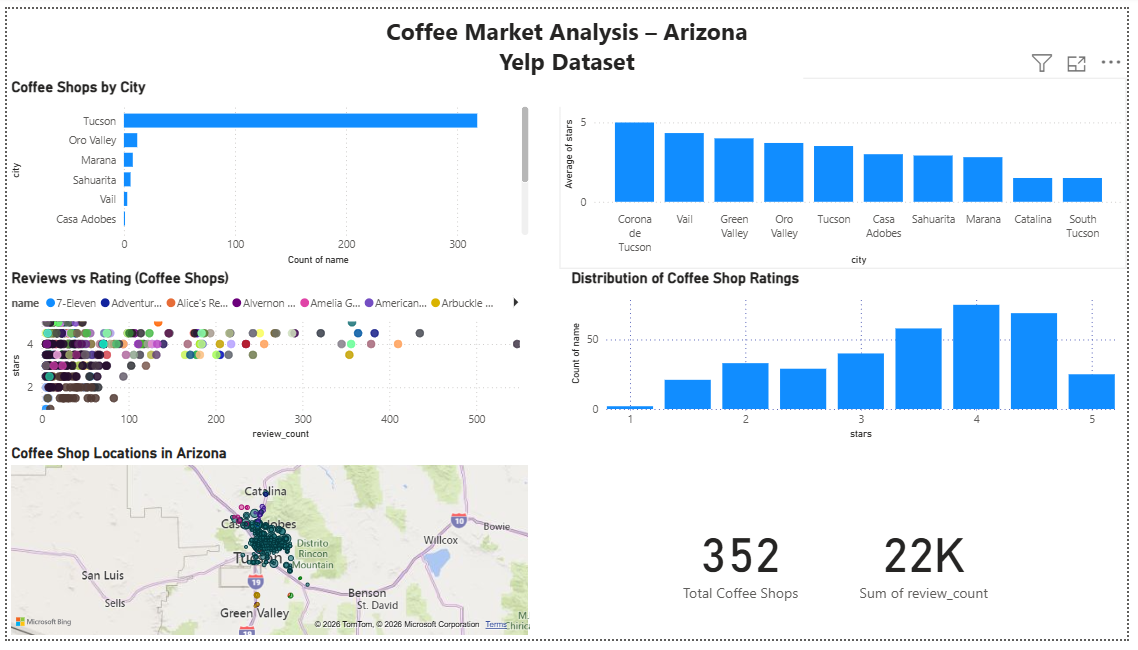

Layout of this report page (visuals, bound fields, positions):
{"tool":"powerbi","page":{"name":"Page 1","canvas":[1280,720],"ordinal":0},"visuals":[{"type":"barChart","title":"Coffee Shops by City","fields":{"Category":["coffee_business.city"],"Y":["CountNonNull(coffee_business.name)"]},"box":[0,78.8,601.2,218.8],"z":0},{"type":"columnChart","title":"Average Coffee Shop Rating by City","fields":{"Category":["coffee_business.city"],"Y":["Avg(coffee_business.stars)"]},"box":[631.2,78.8,648.8,218.8],"z":1000},{"type":"scatterChart","title":"Reviews vs Rating (Coffee Shops)","fields":{"X":["coffee_business.review_count"],"Series":["coffee_business.name"],"Y":["coffee_business.stars"]},"box":[0,297.5,601.2,200],"z":2000},{"type":"clusteredColumnChart","title":"Distribution of Coffee Shop Ratings","fields":{"Category":["coffee_business.stars"],"Y":["CountNonNull(coffee_business.name)"]},"box":[640,297.5,631.2,200],"z":3000},{"type":"textbox","box":[370,1.7,540,110],"z":4000},{"type":"map","title":"Coffee Shop Locations in Arizona","fields":{"Y":["coffee_business.latitude"],"X":["coffee_business.longitude"],"Size":["Sum(coffee_business.review_count)"],"Series":["coffee_business.city"]},"box":[0,497.1,601.4,222.9],"z":5000},{"type":"card","title":"Total Coffee Shops","fields":{"Values":["CountNonNull(coffee_business.name)"]},"box":[734.3,537.1,208.6,182.9],"z":6000},{"type":"card","fields":{"Values":["Sum(coffee_business.review_count)"]},"box":[943.3,536.7,210,183.3],"z":7000}]}

Visuals, with their boxes in screenshot pixels (x1, y1, x2, y2), scaled from the page's 1280x720 canvas onto the 1138x650 screenshot:
"Coffee Shops by City" barChart: locate(0, 71, 535, 269)
"Average Coffee Shop Rating by City" columnChart: locate(561, 71, 1137, 269)
"Reviews vs Rating (Coffee Shops)" scatterChart: locate(0, 269, 535, 449)
"Distribution of Coffee Shop Ratings" clusteredColumnChart: locate(569, 269, 1130, 449)
textbox: locate(329, 2, 809, 101)
"Coffee Shop Locations in Arizona" map: locate(0, 449, 535, 649)
"Total Coffee Shops" card: locate(653, 485, 838, 649)
card - Sum(coffee_business.review_count): locate(839, 485, 1025, 649)
